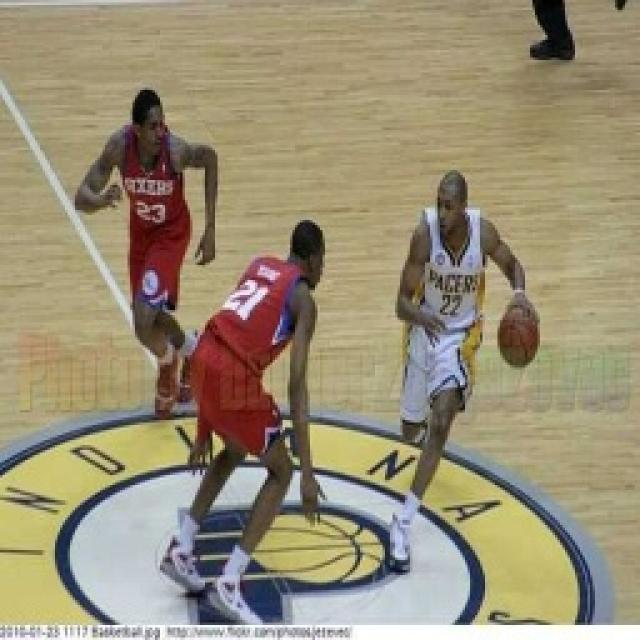rim: (491, 300, 544, 372)
